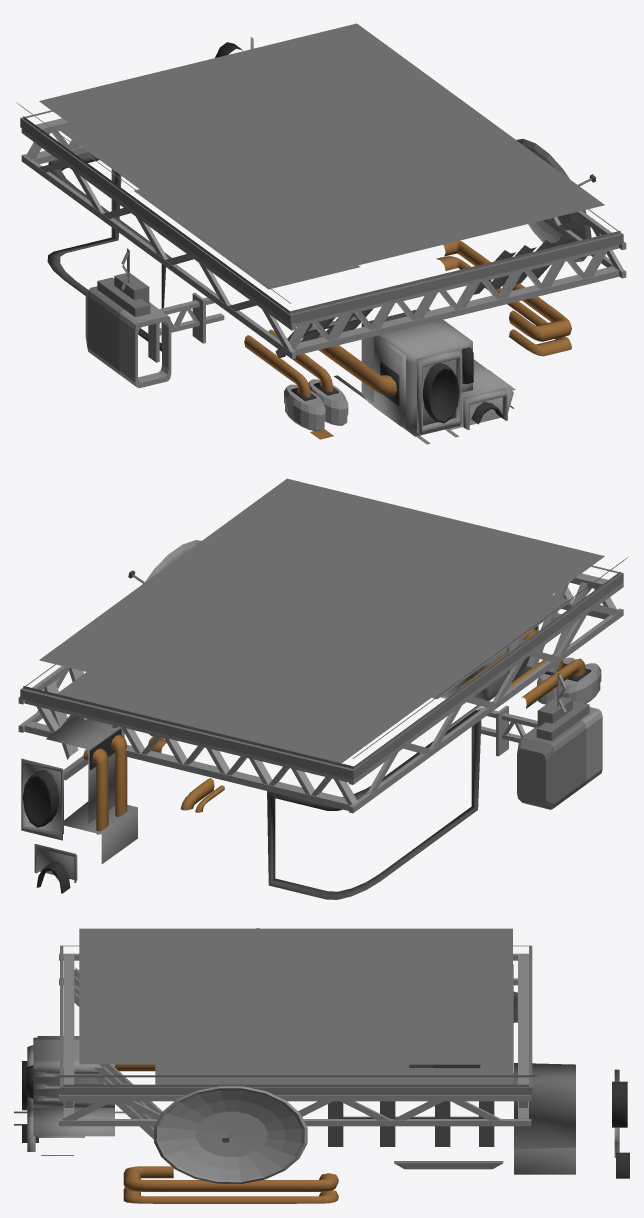
The model's file is platform-dock.glb.
3 views of the same model, one above another, from view 1: azimuth 30°, elevation 25°; view 2: azimuth 150°, elevation 25°; view 3: azimuth 270°, elevation 25° (orthographic). The views are drawn at different scales.
Parts seen in each view (by area): view 1: QuaterniusDeck; view 2: QuaterniusDeck; view 3: QuaterniusDeck.
Part boxes in pixels (x1,y1,x2,y2): QuaterniusDeck: [16, 23, 626, 444]; QuaterniusDeck: [18, 478, 628, 899]; QuaterniusDeck: [14, 928, 629, 1203].
Size of the model in its own units: 3.05 by 1.02 by 4.
